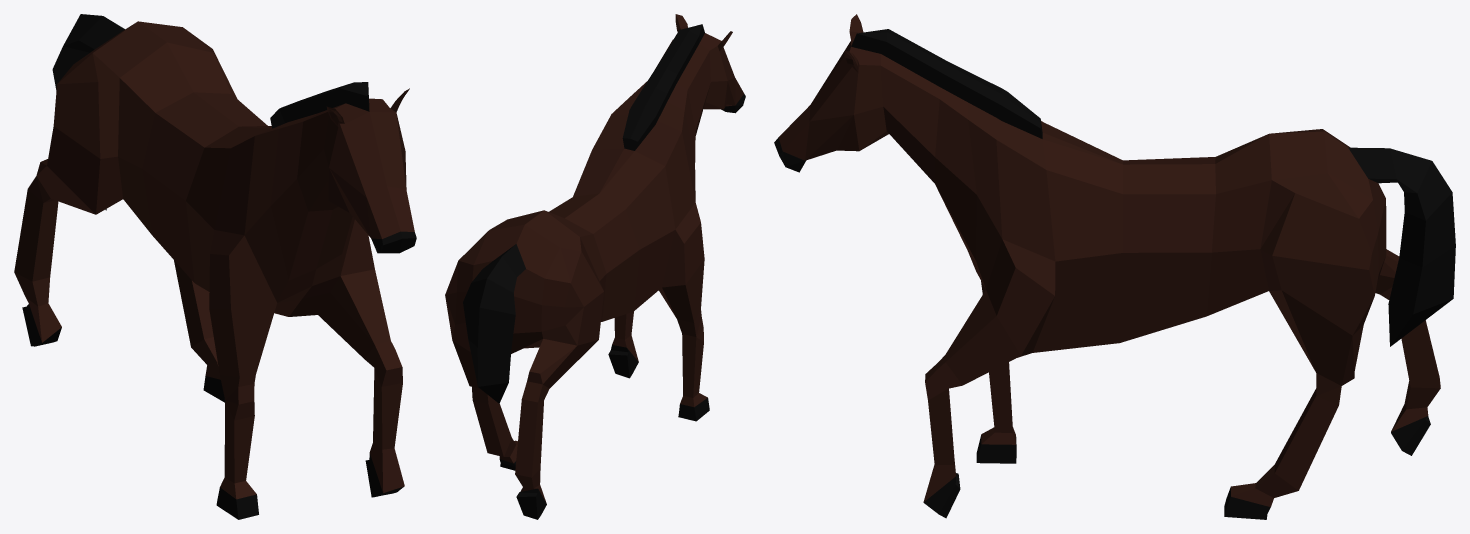
Rendered from Horse_000025.obj.
3 views of the same model, side by side, from view 1: azimuth 30°, elevation 25°; view 2: azimuth 150°, elevation 25°; view 3: azimuth 270°, elevation 25° (orthographic). The views are drawn at different scales.
Visible parts, largest first — view 1: Horse_Cylinder; view 2: Horse_Cylinder; view 3: Horse_Cylinder.
Boxes of the visible parts, bbox=[...] form: Horse_Cylinder: bbox=[14, 14, 416, 519]; Horse_Cylinder: bbox=[445, 14, 745, 519]; Horse_Cylinder: bbox=[774, 14, 1455, 519].
Size of the model in its own units: 2.55 by 6.75 by 9.1.
